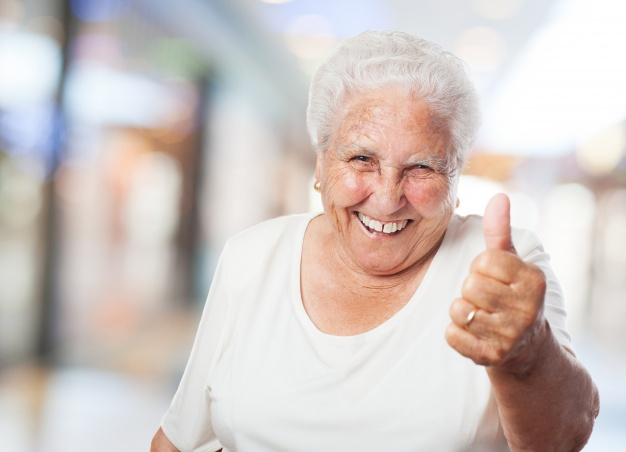thumbsup: (445, 193, 547, 367)
